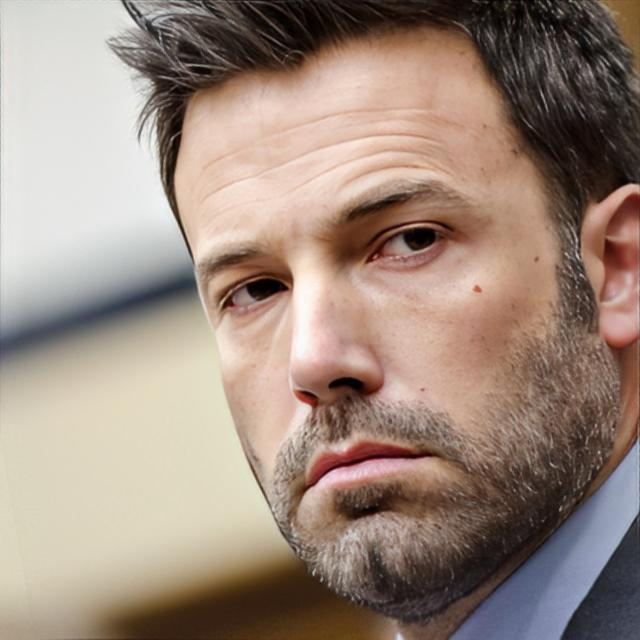sad: (163, 16, 587, 618)
